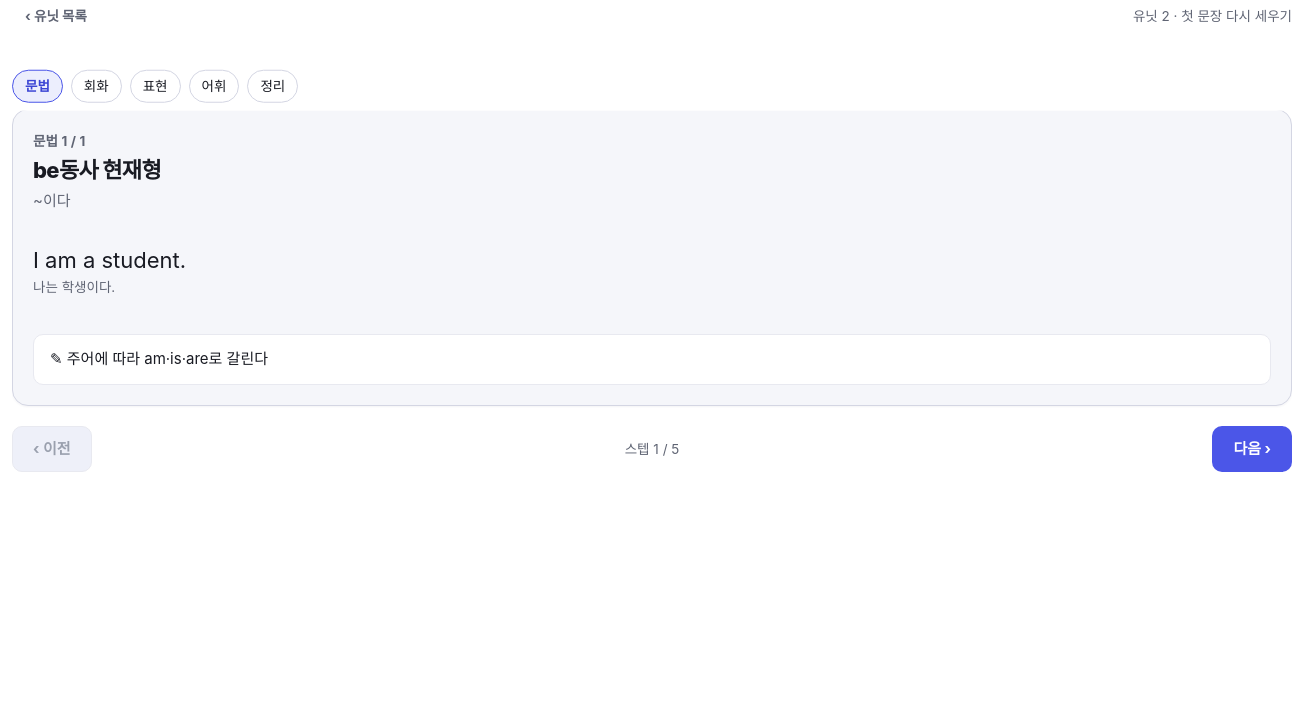
코스 완주 안내 (A-L5) › 받침 있는 코스명에는 '은'이 붙는다
This screenshot has width=1304, height=720.
Click the button "정리" at coordinates (273, 86), box [247,70,298,102]
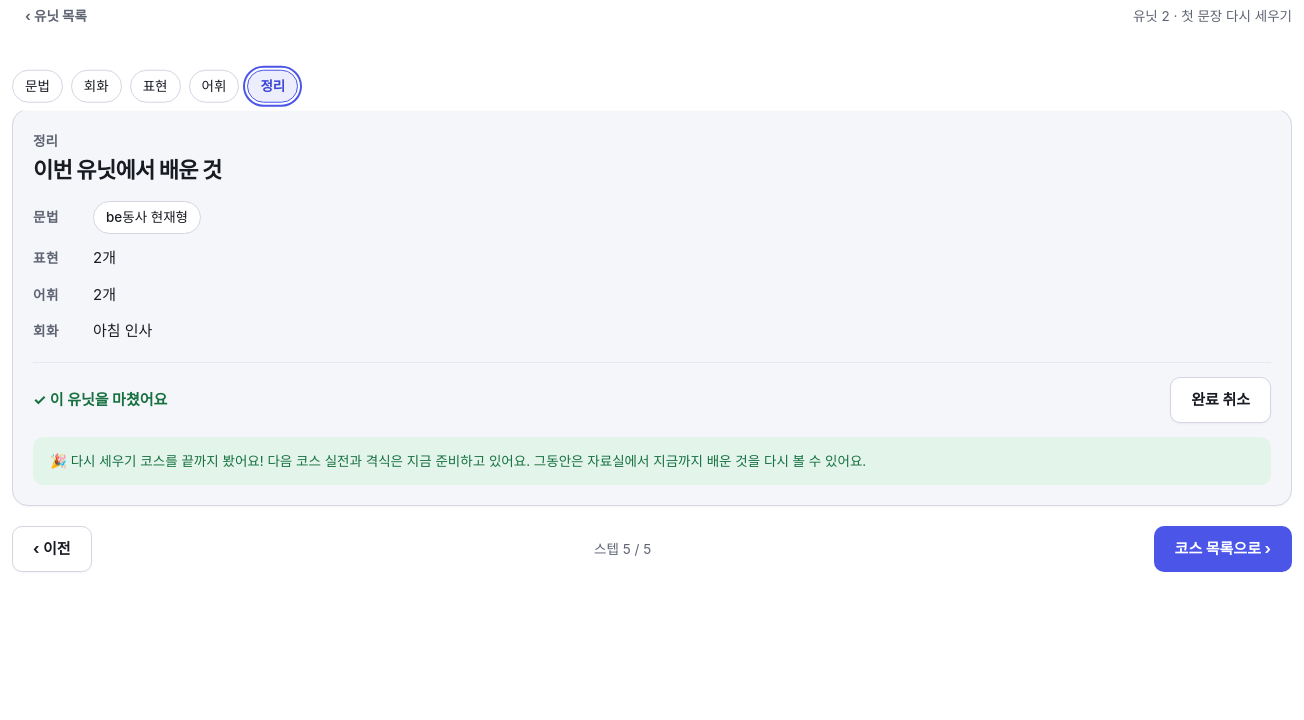
Expected: the text "실전과 격식은 지금 준비하고 있어요" is shown, [267,453,866,469]
